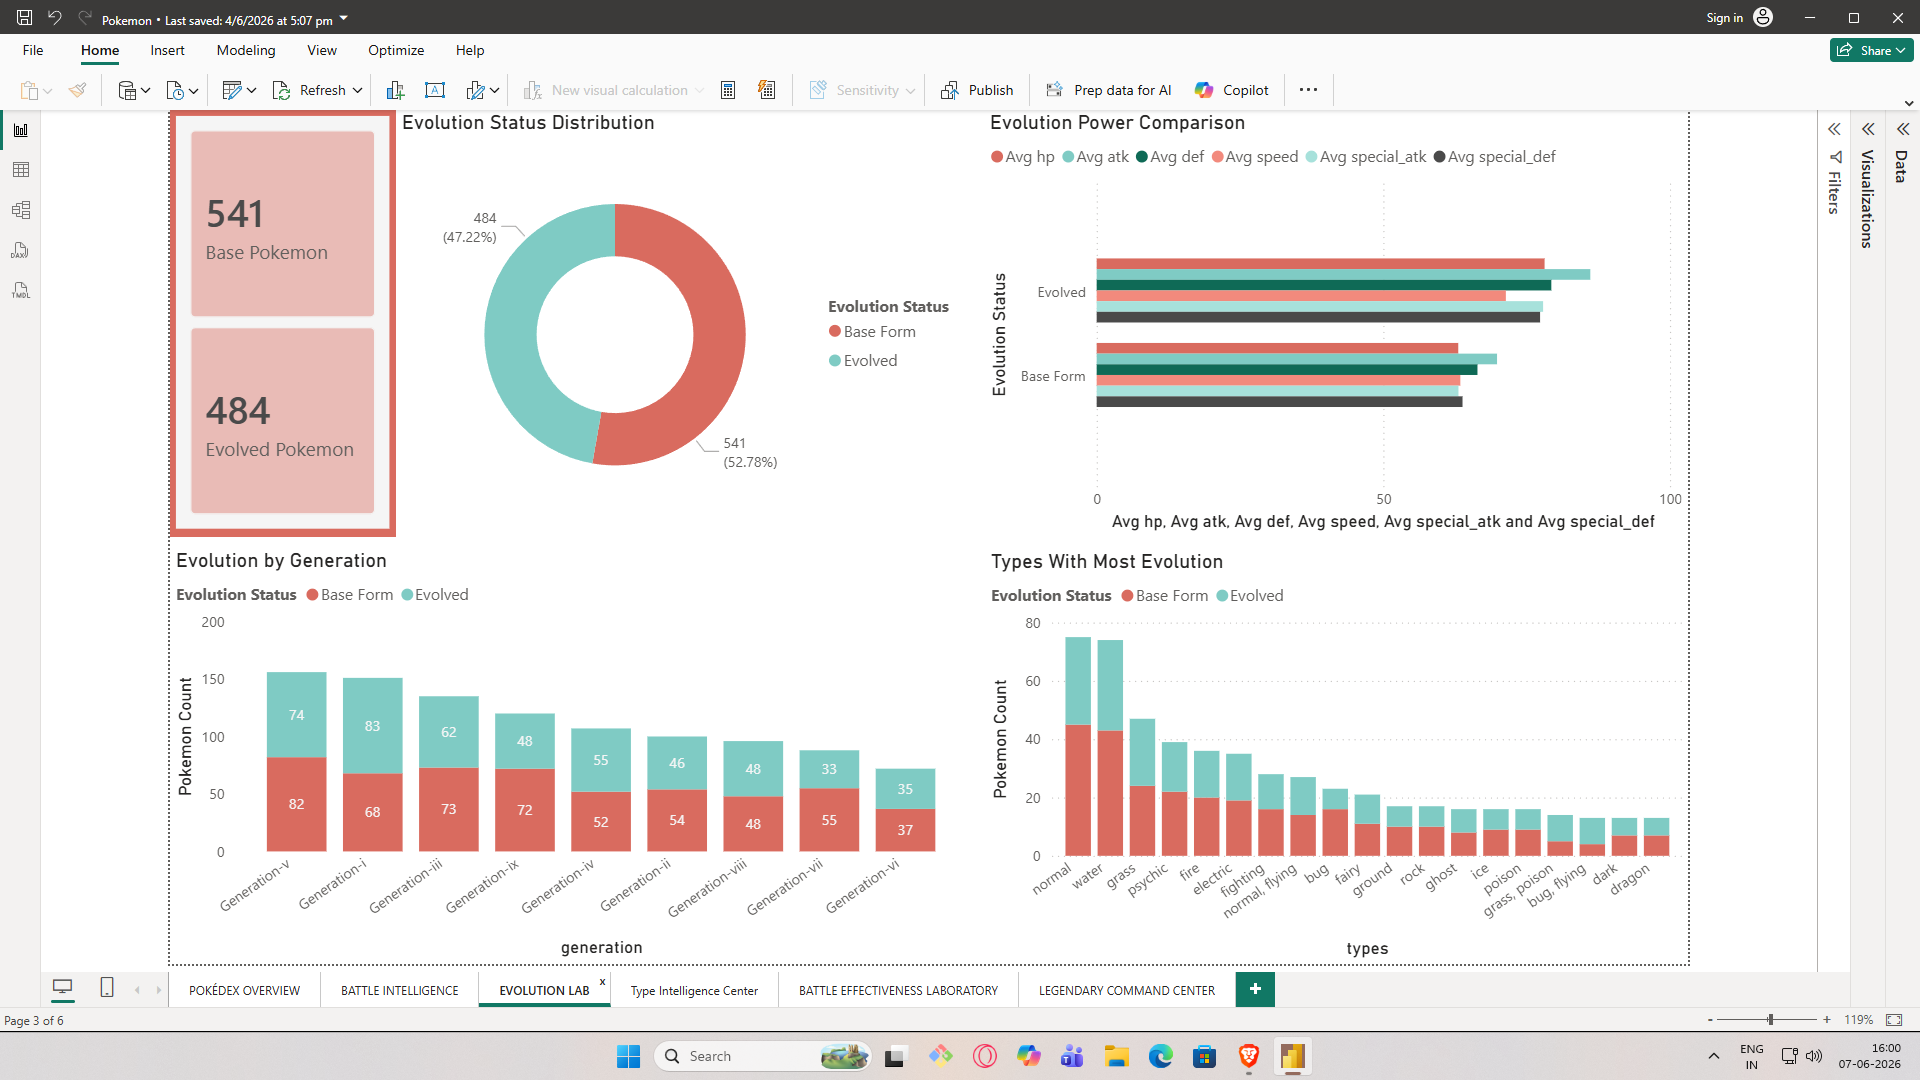

What the dashboard file says about the page in this screenshot:
{"tool":"powerbi","page":{"name":"EVOLUTION LAB","canvas":[1280,720],"ordinal":2},"visuals":[{"type":"cardVisual","fields":{"Data":["Pokemon.Base Pokemon","Pokemon.Evolved Pokemon"]},"box":[0,0,190.6,359.9],"z":0},{"type":"donutChart","title":"Evolution Status Distribution","fields":{"Category":["Pokemon.Evolution Status"],"Y":["Pokemon.Pokemon Count"]},"box":[190.6,0,486.3,359.9],"z":1000},{"type":"columnChart","title":"Evolution by Generation","fields":{"Category":["Pokemon.generation"],"Series":["Pokemon.Evolution Status"],"Y":["Pokemon.Pokemon Count"]},"box":[0,369.6,677,350.2],"z":2000},{"type":"clusteredBarChart","title":"Evolution Power Comparison","fields":{"Category":["Pokemon.Evolution Status"],"Y":["Avg(Pokemon.hp)","Avg(Pokemon.attack)","Avg(Pokemon.defense)","Avg(Pokemon.speed)","Avg(Pokemon.special_attack)","Avg(Pokemon.special_defense)"]},"box":[686.7,0,593.3,359.9],"z":3000},{"type":"columnChart","title":"Types With Most Evolution","fields":{"Category":["Pokemon.types"],"Series":["Pokemon.Evolution Status"],"Y":["Pokemon.Pokemon Count"]},"box":[687,370,593,350],"z":4000}]}

Visuals, with their boxes on the page's 1280x720 design canvas (x1, y1, x2, y2). These are canvas units, not pixel positions in the 1920x1080 screenshot, which may show the page scaled, cropped or inside an application window:
cardVisual - Pokemon.Base Pokemon x Pokemon.Evolved Pokemon: bbox(0, 0, 191, 360)
"Evolution Status Distribution" donutChart: bbox(191, 0, 677, 360)
"Evolution by Generation" columnChart: bbox(0, 370, 677, 720)
"Evolution Power Comparison" clusteredBarChart: bbox(687, 0, 1280, 360)
"Types With Most Evolution" columnChart: bbox(687, 370, 1280, 720)
